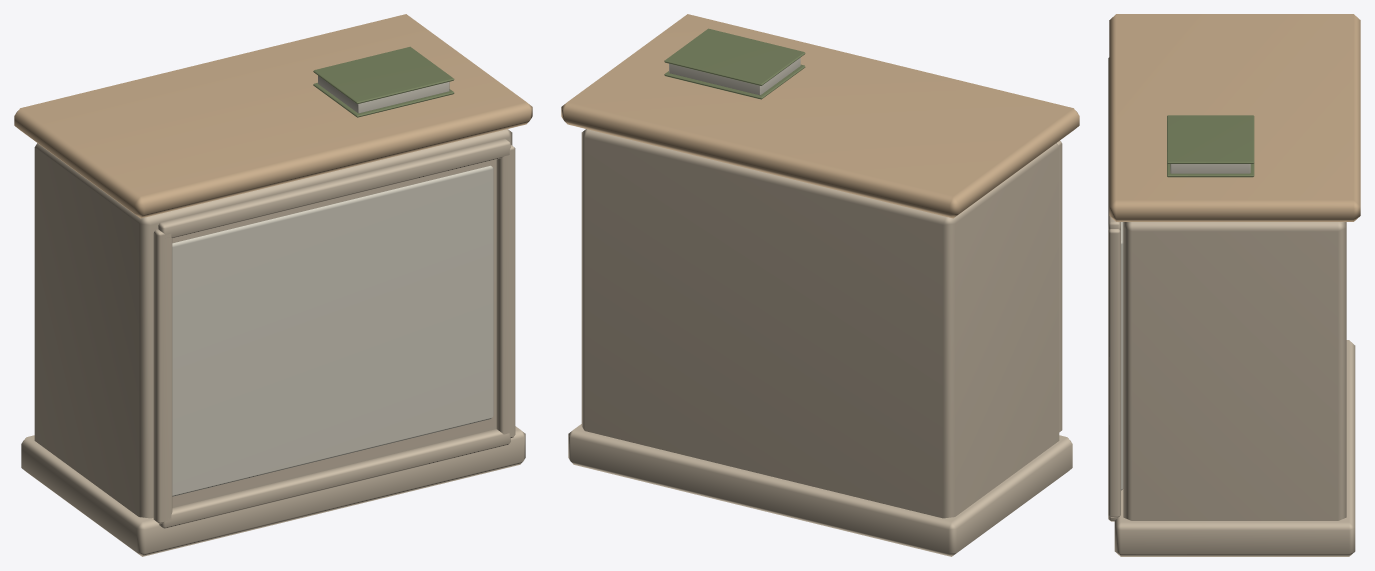
Rendered from teacher_desk.glb.
3 views of the same model, side by side, from view 1: azimuth 30°, elevation 25°; view 2: azimuth 150°, elevation 25°; view 3: azimuth 270°, elevation 25° (orthographic).
Visible parts, largest first — view 1: Body; view 2: Body; view 3: Body.
Part boxes in pixels (bbox=[...]): Body: bbox=[14, 14, 532, 556]; Body: bbox=[561, 14, 1079, 556]; Body: bbox=[1108, 14, 1360, 556].
Bounding box in the file's own units: 1.3 × 1.18 × 0.723.
